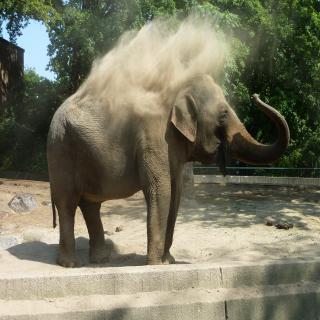Elephant: (44, 71, 292, 268)
